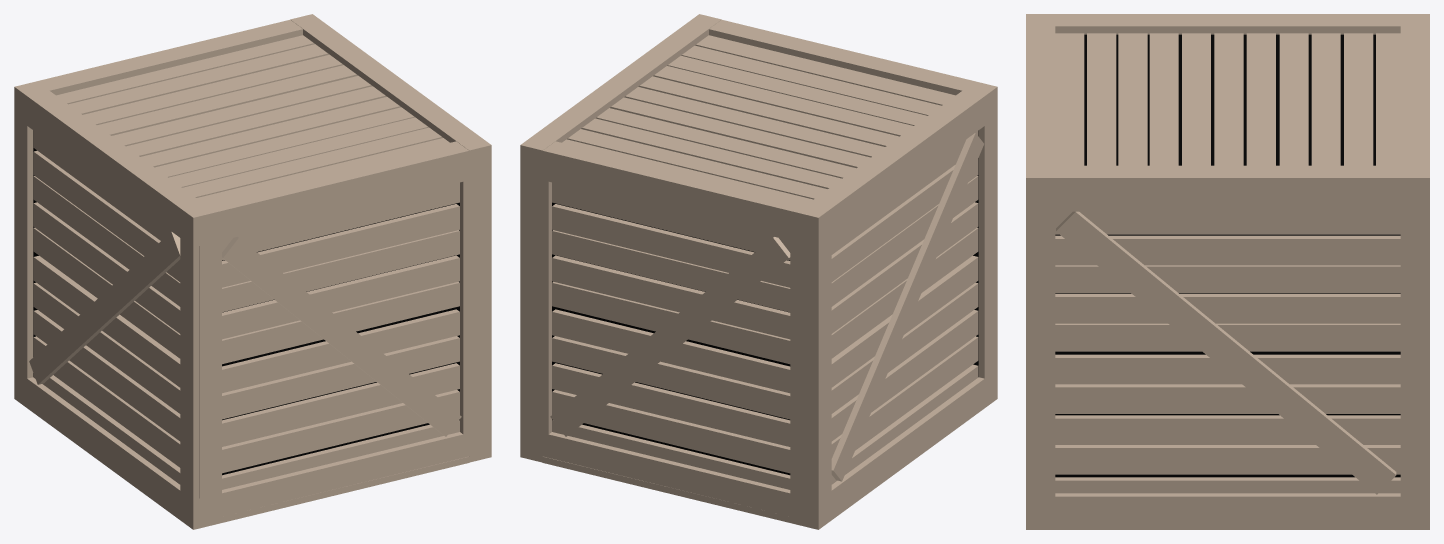
File: crate_mdl_v001.fbx
3 views of the same model, side by side, from view 1: azimuth 30°, elevation 25°; view 2: azimuth 150°, elevation 25°; view 3: azimuth 270°, elevation 25° (orthographic). The views are drawn at different scales.
Parts seen in each view (by area): view 1: plank4, plank7, plank2, plank6, plank3, plank111, plank109, plank113, plank107, plank112, plank114, plank19 (+37 smaller); view 2: plank11, plank12, plank18, plank9, plank10, plank13, plank99, plank101, plank97, plank103, plank98, plank95 (+37 smaller); view 3: plank17, plank14, plank8, plank64, plank68, plank66, plank71, plank70, plank69, plank67, inside, plank16 (+20 smaller).
Part boxes in pixels (box(x1,y1,x2,y2)): plank4: box(199, 429, 485, 522); plank7: box(222, 237, 461, 436); plank2: box(199, 153, 485, 245); plank6: box(460, 176, 485, 434); plank3: box(199, 240, 221, 498); plank111: box(222, 309, 459, 393); plank109: box(222, 255, 459, 339); plank113: box(222, 363, 459, 446); plank107: box(222, 204, 459, 287); plank112: box(222, 336, 459, 419); plank114: box(222, 390, 459, 473); plank19: box(14, 369, 199, 523); plank11: box(526, 429, 812, 522); plank12: box(550, 237, 790, 436); plank18: box(831, 133, 983, 481); plank9: box(526, 153, 812, 245); plank10: box(526, 176, 551, 434); plank13: box(790, 240, 812, 498); plank99: box(552, 309, 790, 393); plank101: box(552, 255, 790, 339); plank97: box(552, 363, 790, 446); plank103: box(552, 204, 790, 287); plank98: box(552, 336, 790, 419); plank95: box(552, 390, 790, 473); plank17: box(1056, 211, 1396, 494); plank14: box(1026, 493, 1429, 522); plank8: box(1026, 185, 1429, 211); plank64: box(1055, 235, 1400, 265); plank68: box(1055, 354, 1400, 384); plank66: box(1055, 293, 1400, 323); plank71: box(1055, 445, 1400, 474); plank70: box(1055, 415, 1400, 444); plank69: box(1055, 384, 1400, 413); plank67: box(1055, 323, 1400, 351); inside: box(1055, 34, 1400, 477); plank16: box(1400, 211, 1429, 496).
Size of the model in its own units: 30 by 30.02 by 31.2.
